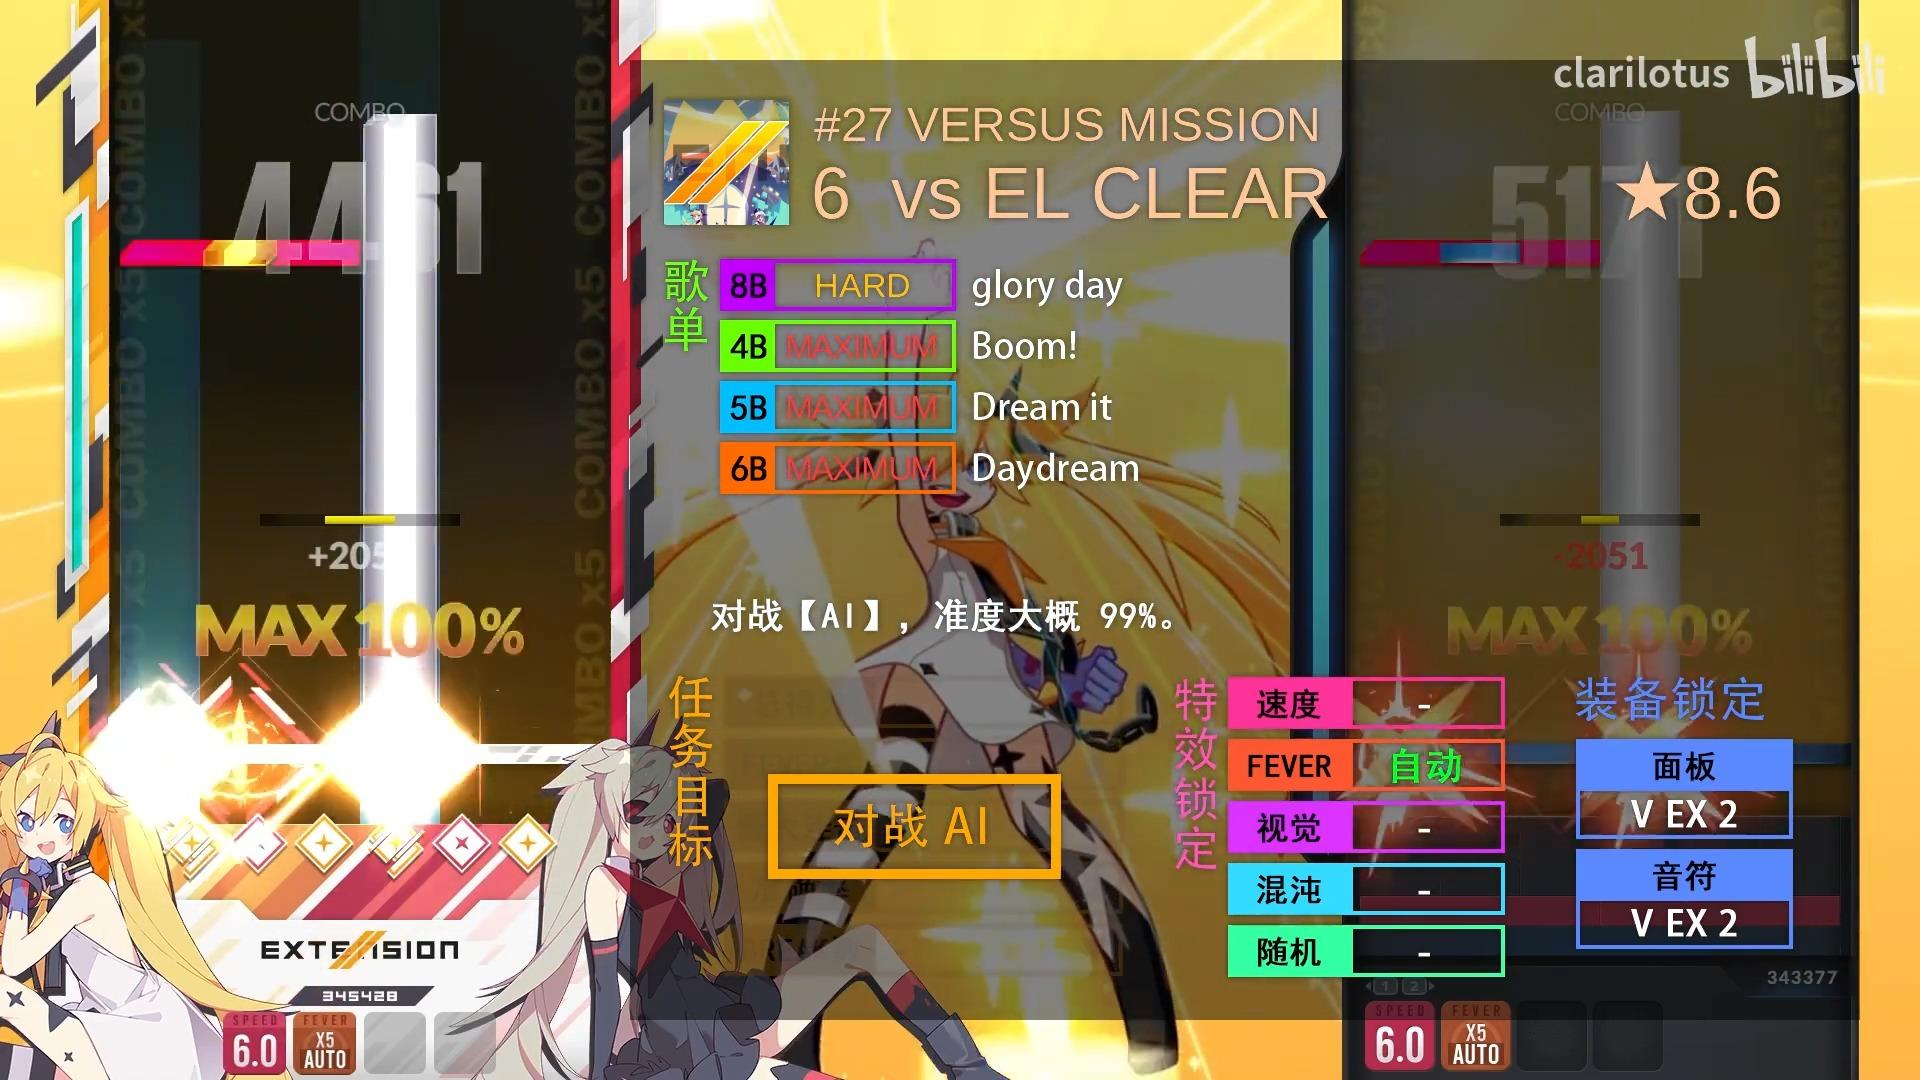hold-end: (363, 113, 438, 138)
note: (203, 239, 277, 266)
xnote: (120, 239, 361, 266)
